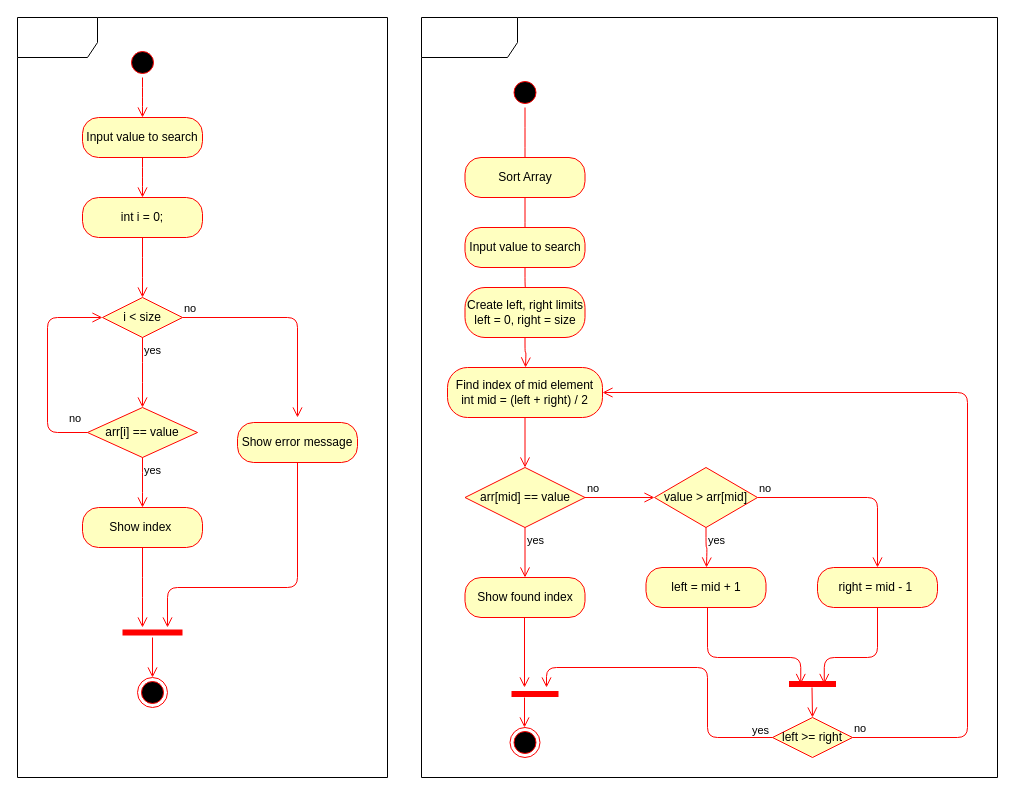
Image size: 1015x795. Some labels were removed from this diagram. The centre of each missing label's shape, as x and y in pixels:
binary search: point (709, 397)
linear search: point (202, 397)
